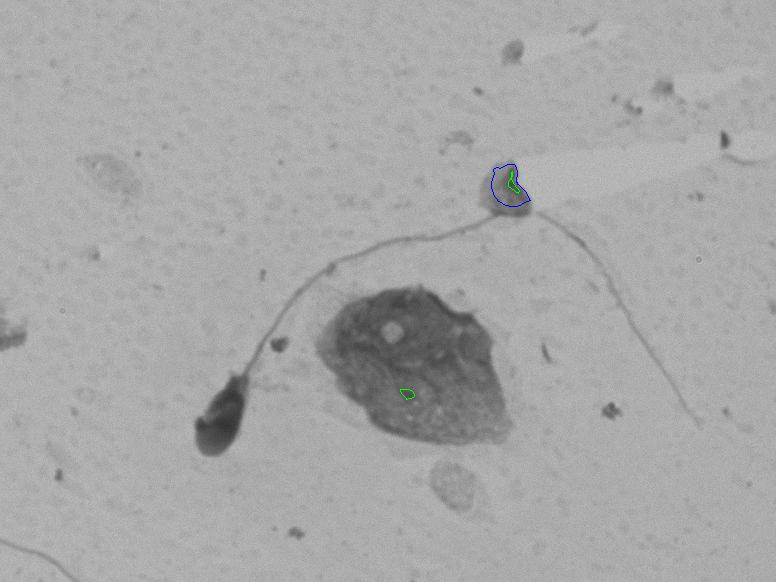Abnormal: (172, 191, 729, 472)
